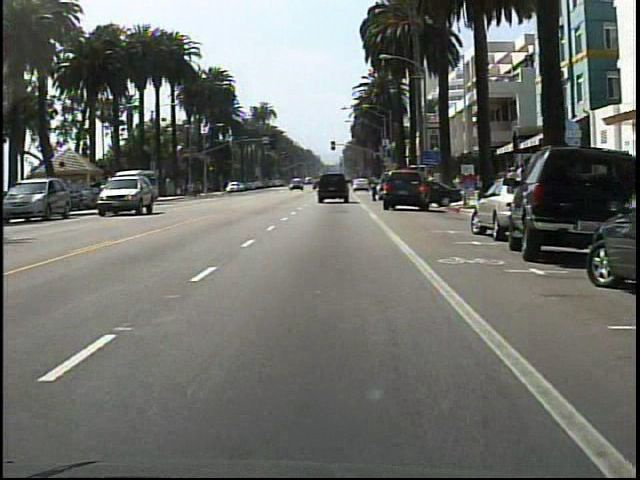person: (366, 173, 382, 204)
